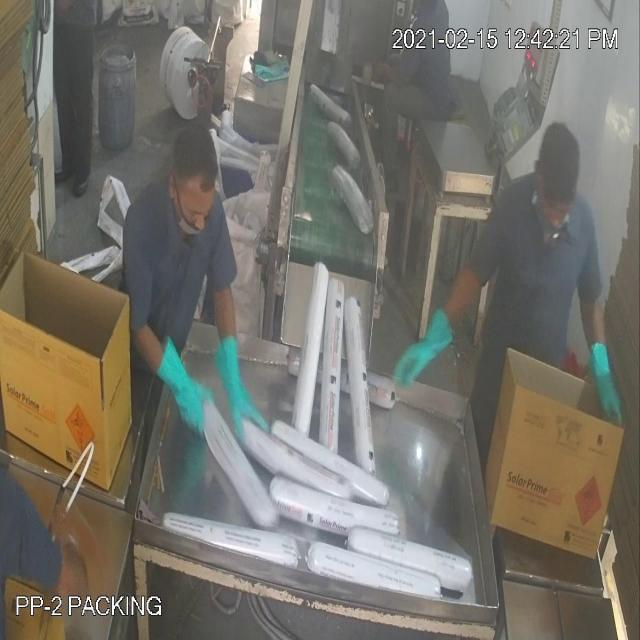Gloves: (52, 98, 603, 550)
